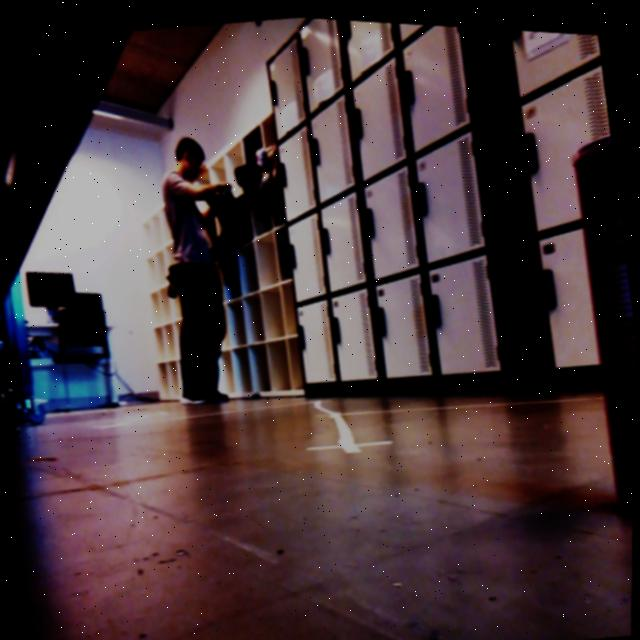redpringles: (543, 112, 639, 541)
